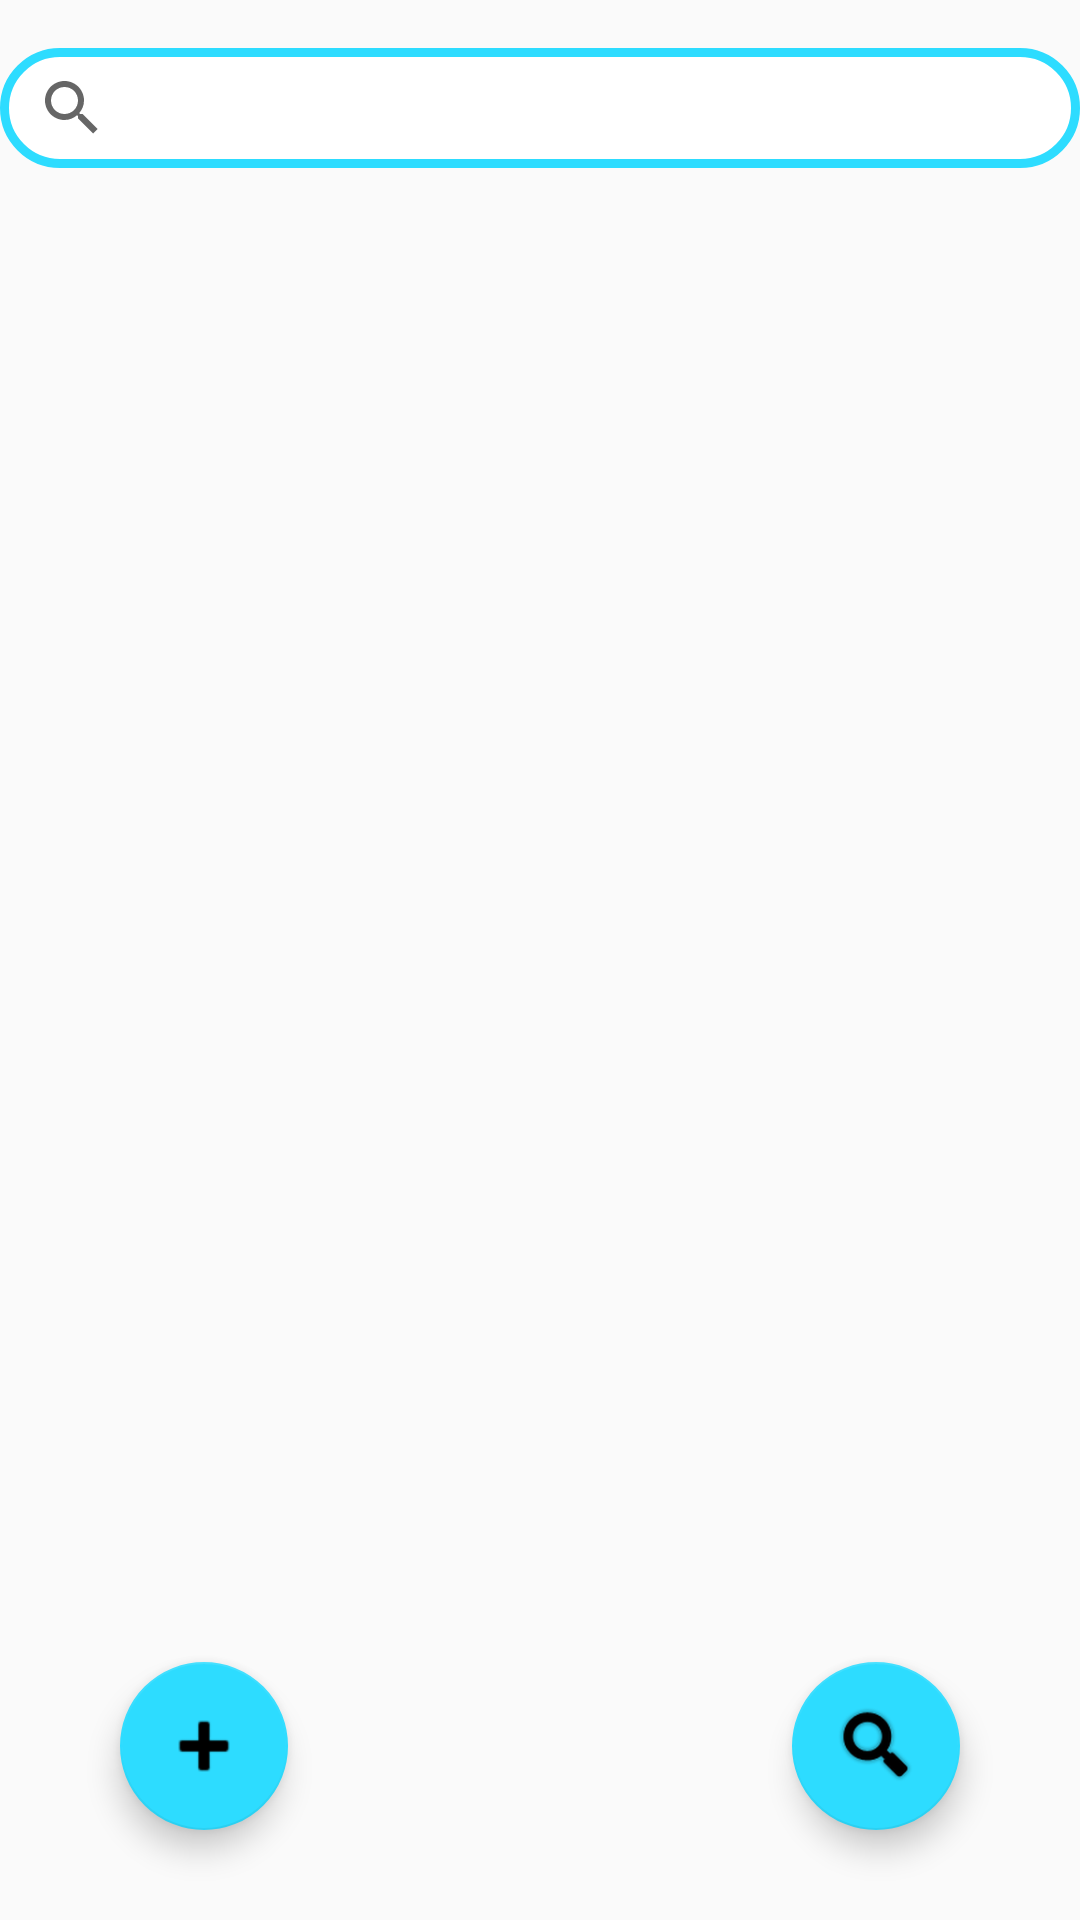

Icon click points for this 1080x1920 phone screenshot, format [x,y]:
add: [204,1746]
search category: [876,1746]
